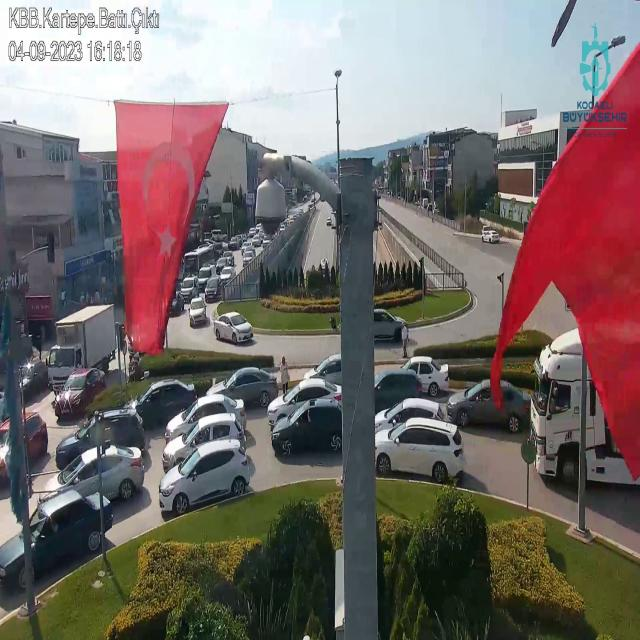car: (2, 489, 112, 600), (374, 414, 466, 489), (162, 439, 253, 512), (451, 375, 532, 442), (273, 399, 350, 460), (214, 311, 252, 344), (188, 298, 208, 329)
